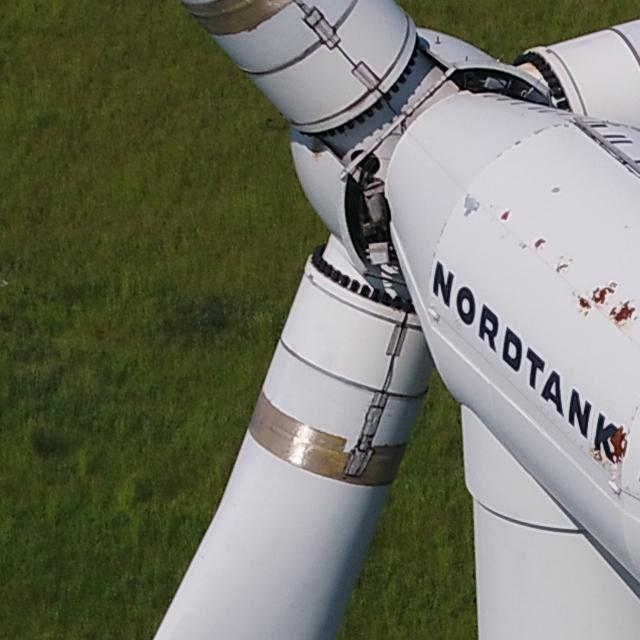damage: (608, 424, 631, 462), (606, 299, 637, 325), (461, 195, 483, 219), (590, 286, 617, 304), (576, 294, 591, 310), (533, 237, 546, 250), (500, 209, 512, 222), (554, 263, 569, 273), (549, 185, 561, 195)
